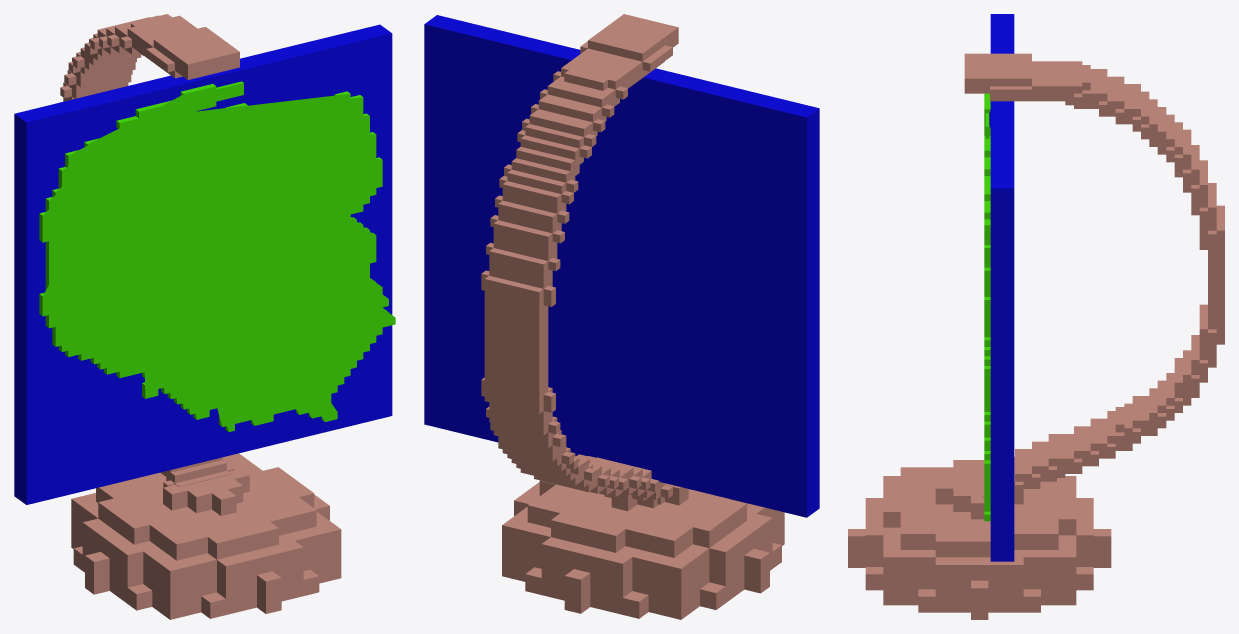
Rendered from True_world_map.fbx.
3 renders of one model, left to right at view 1: azimuth 30°, elevation 25°; view 2: azimuth 150°, elevation 25°; view 3: azimuth 270°, elevation 25°, orthographic. The views are drawn at different scales.
Visible parts, largest first — view 1: pobrane.002; view 2: pobrane.002; view 3: pobrane.002.
Boxes of the visible parts, left/top/right/bottom form: pobrane.002: left=14, top=14, right=395, bottom=619; pobrane.002: left=424, top=14, right=819, bottom=619; pobrane.002: left=848, top=14, right=1224, bottom=619.
Bounding box in the file's own units: 176 × 234 × 161.
